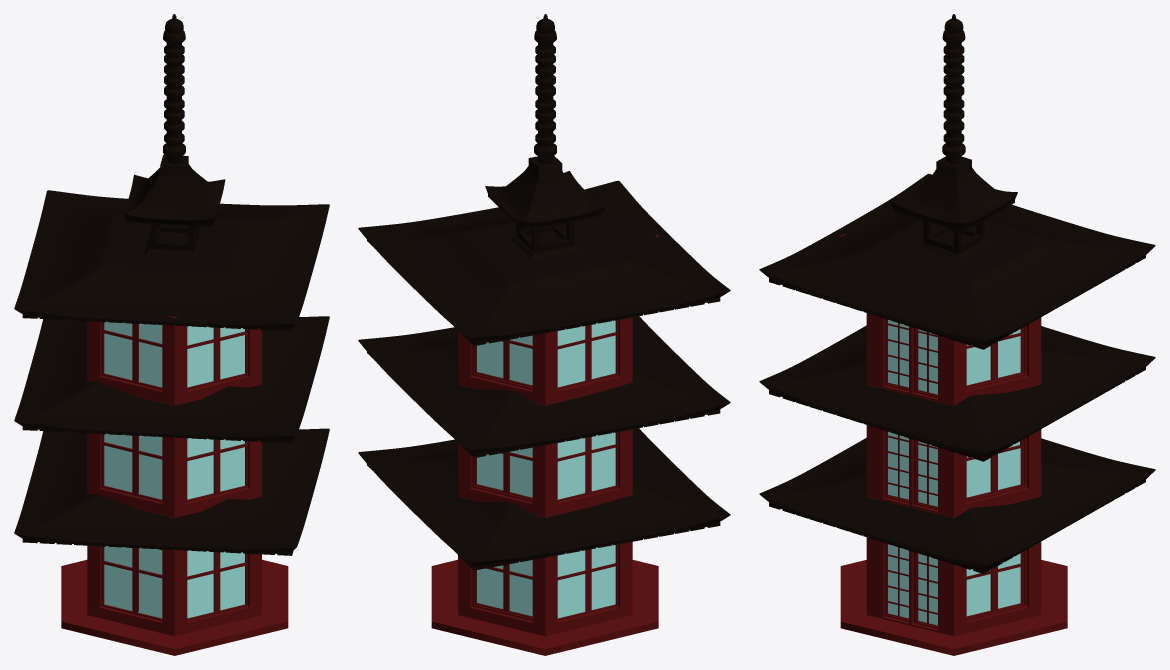
Rendered from Temples.fbx.
The picture shows the model from 3 angles, left to right: view 1: azimuth 30°, elevation 25°; view 2: azimuth 150°, elevation 25°; view 3: azimuth 270°, elevation 25°; orthographic projection.
Parts seen in each view (by area): view 1: Cylinder001, Pagoda Lantern_Stone Tower002, Pagoda Lantern_Stone Tower (×2), Pagoda Lantern_Stone Tower001, Object001; view 2: Pagoda Lantern_Stone Tower002, Pagoda Lantern_Stone Tower (×2), Cylinder001, Pagoda Lantern_Stone Tower001, Object001; view 3: Pagoda Lantern_Stone Tower002, Pagoda Lantern_Stone Tower (×2), Cylinder001, Pagoda Lantern_Stone Tower001, Object001.
Part boxes in pixels (x1,y1,x2,y2): Cylinder001: (61, 432, 288, 655); Pagoda Lantern_Stone Tower002: (14, 190, 329, 331); Pagoda Lantern_Stone Tower (×2): (14, 14, 329, 555); Pagoda Lantern_Stone Tower001: (14, 316, 329, 443); Object001: (87, 316, 261, 405); Pagoda Lantern_Stone Tower002: (358, 180, 730, 345); Pagoda Lantern_Stone Tower (×2): (358, 14, 730, 570); Cylinder001: (431, 429, 658, 655); Pagoda Lantern_Stone Tower001: (358, 316, 730, 458); Object001: (458, 234, 658, 405); Pagoda Lantern_Stone Tower002: (759, 174, 1155, 349); Pagoda Lantern_Stone Tower (×2): (759, 14, 1155, 573); Cylinder001: (840, 425, 1067, 655); Pagoda Lantern_Stone Tower001: (759, 325, 1155, 461); Object001: (840, 233, 1041, 405).
Size of the model in its own units: 178 by 289 by 177.
